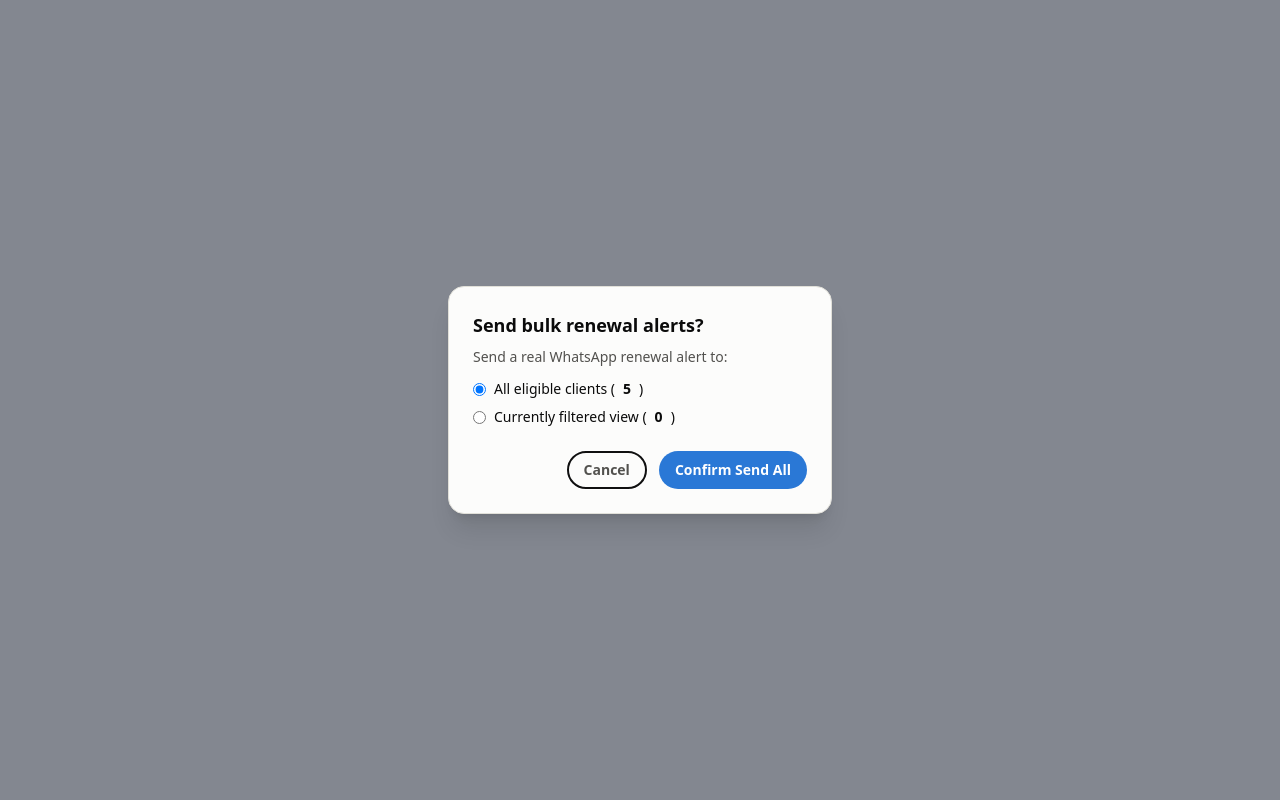
it: SendAllConfirmModal › disables Confirm when the filtered scope is selected and its count is 0
Click the radio button labelled "Currently filtered view ( 0 )" at (480, 417), box x1=473 y1=410 x2=486 y2=424
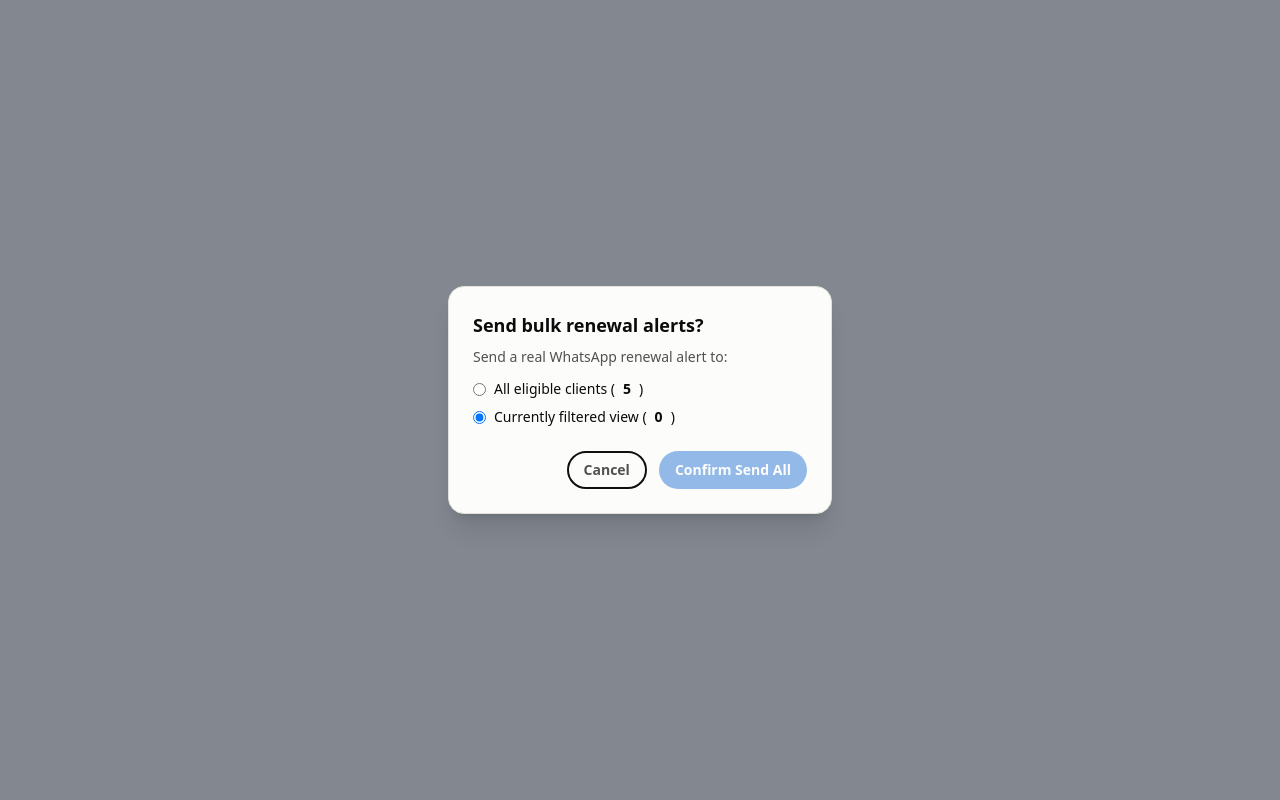
Expected: the button "Confirm Send All" is disabled, x1=659 y1=451 x2=807 y2=489
